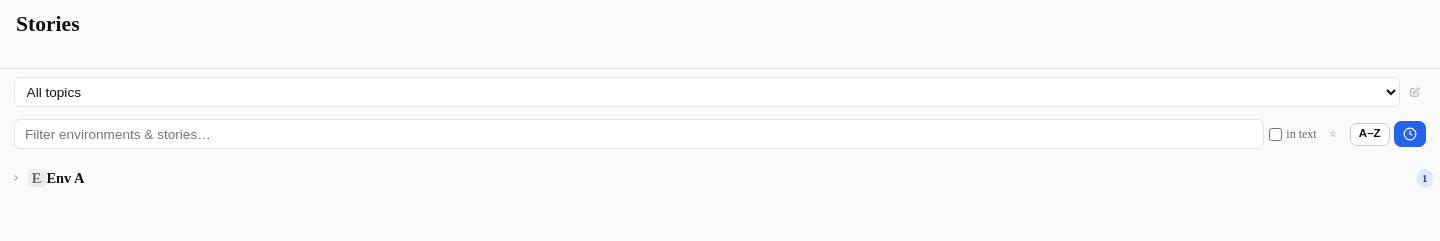
Scenario: SideBarComponent › inline chat-title editing › saves on blur
Click the button with class "expand-btn" at x=16, y=178, box x1=5 y1=167 x2=27 y2=189
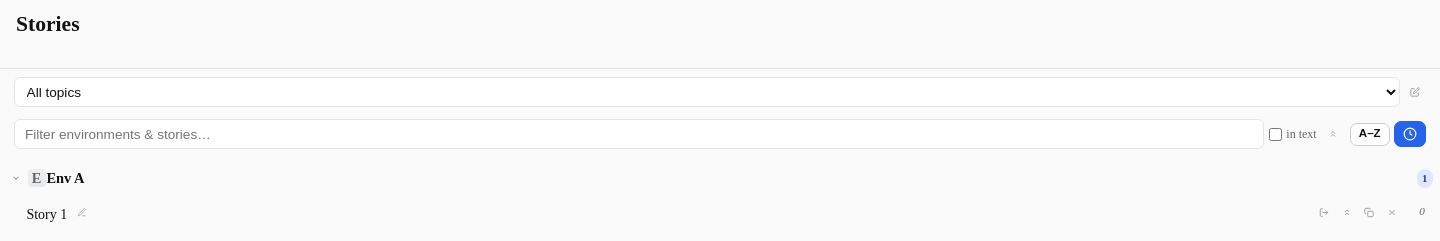
Click the button named "Rename story" at x=82, y=212, box x1=71 y1=201 x2=93 y2=223
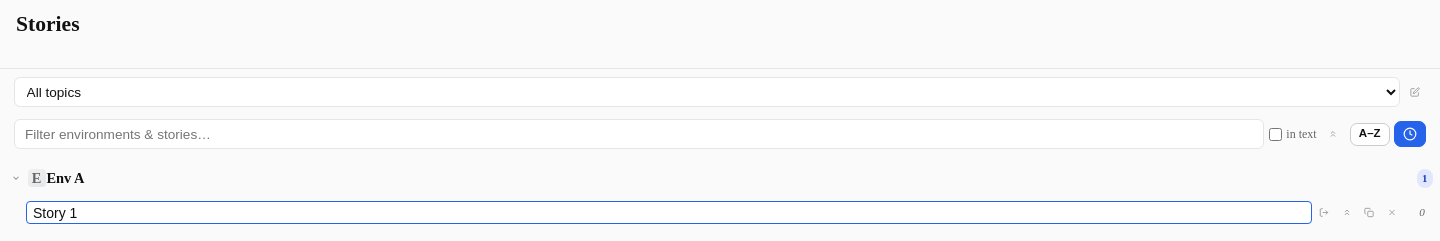
Replace the text in the field with class "chat-title-input" with "Via Blur" at x=669, y=213, box x1=26 y1=201 x2=1312 y2=224
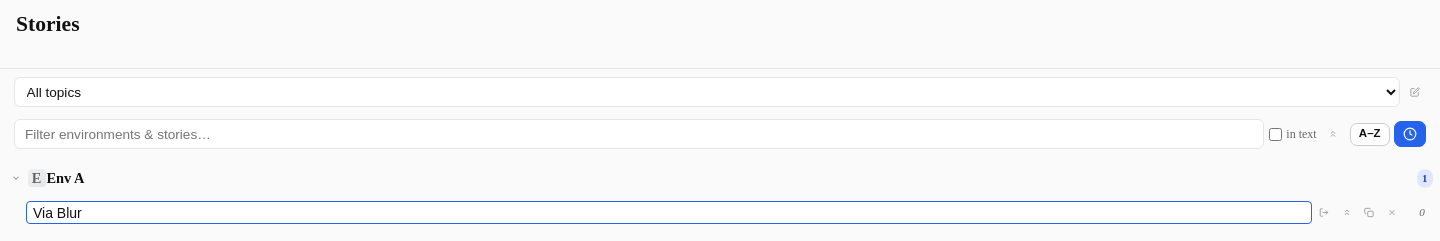
Leave the field with class "chat-title-input", box x1=26 y1=201 x2=1312 y2=224
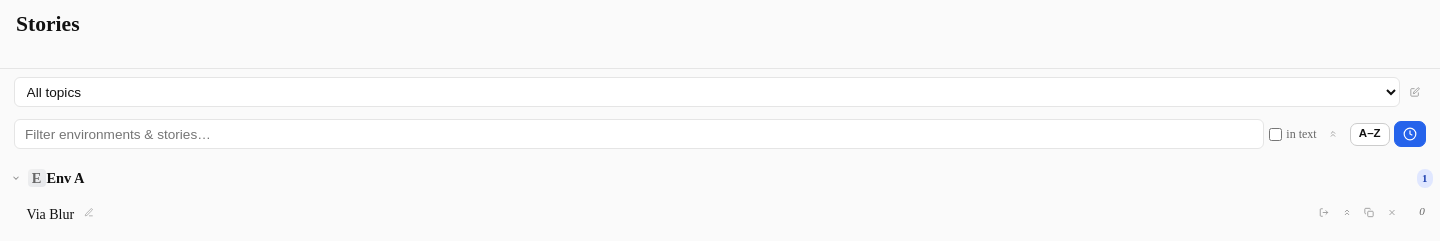
Result: the element showing "Via Blur" is shown at x1=26 y1=201 x2=100 y2=223
